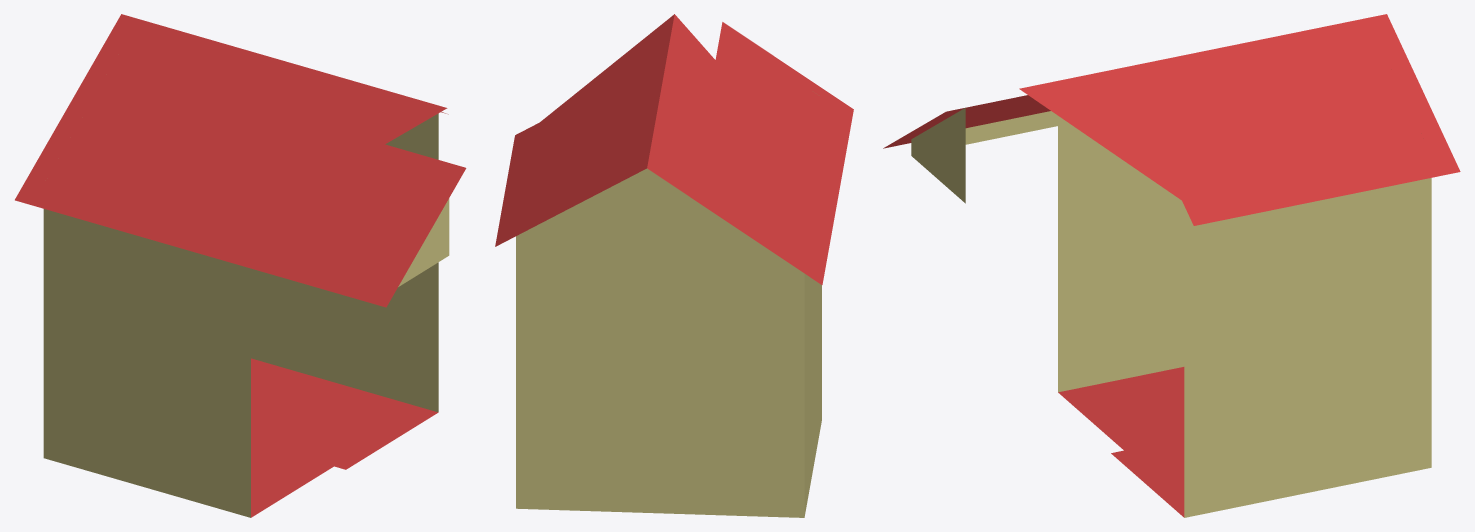
The picture shows the model from 3 angles, left to right: view 1: azimuth 30°, elevation 25°; view 2: azimuth 150°, elevation 25°; view 3: azimuth 270°, elevation 25°; orthographic projection. The views are drawn at different scales.
Size of the model in its own units: 10.56 by 13.33 by 10.01.
